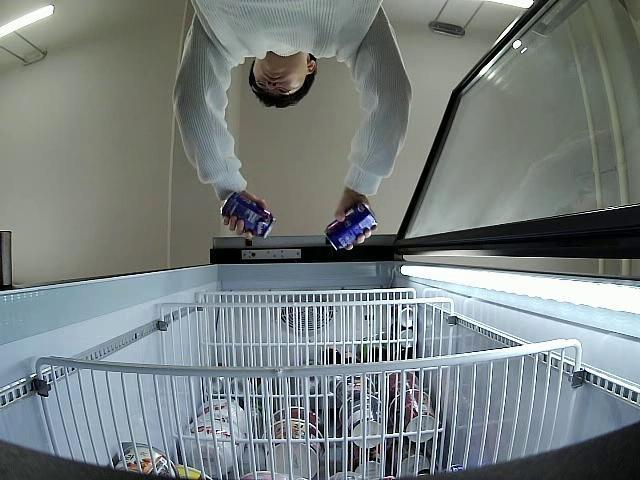14_welchsGrape: (220, 190, 274, 239), (326, 201, 376, 248)
